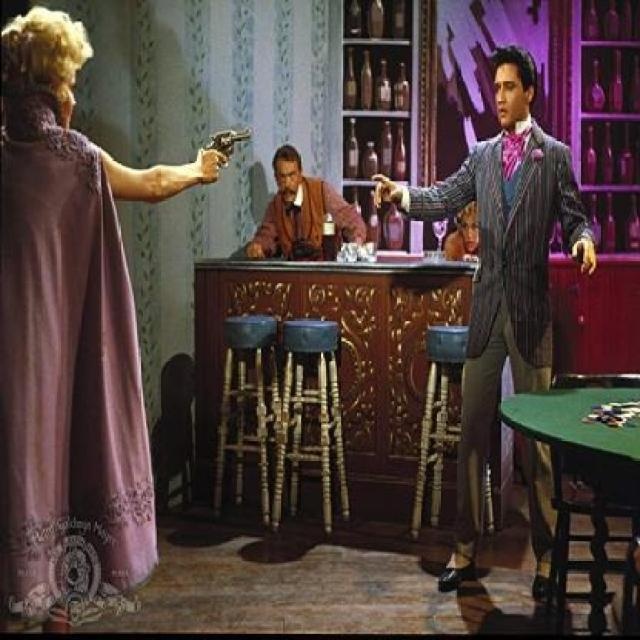gun: (194, 82, 268, 158)
